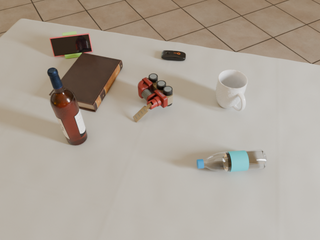book: (49, 52, 123, 112)
bottle: (47, 68, 87, 145), (197, 150, 267, 172)
cup: (216, 70, 247, 111)
mouse: (161, 50, 186, 61)
phone: (50, 33, 93, 57)
toy_car: (133, 74, 173, 122)
